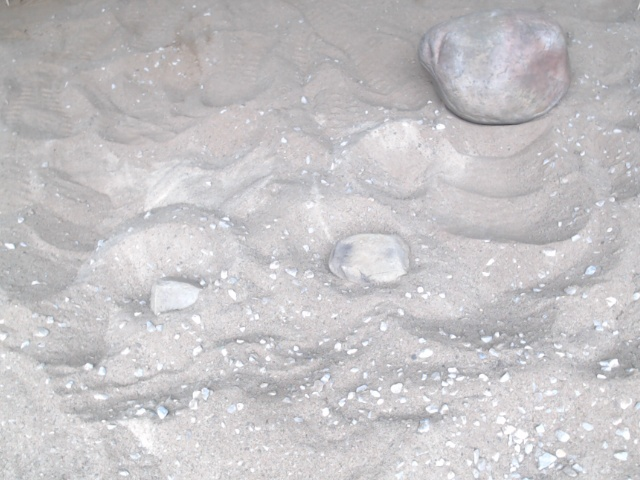rock: (412, 6, 578, 132), (324, 228, 415, 292), (145, 276, 204, 320)
